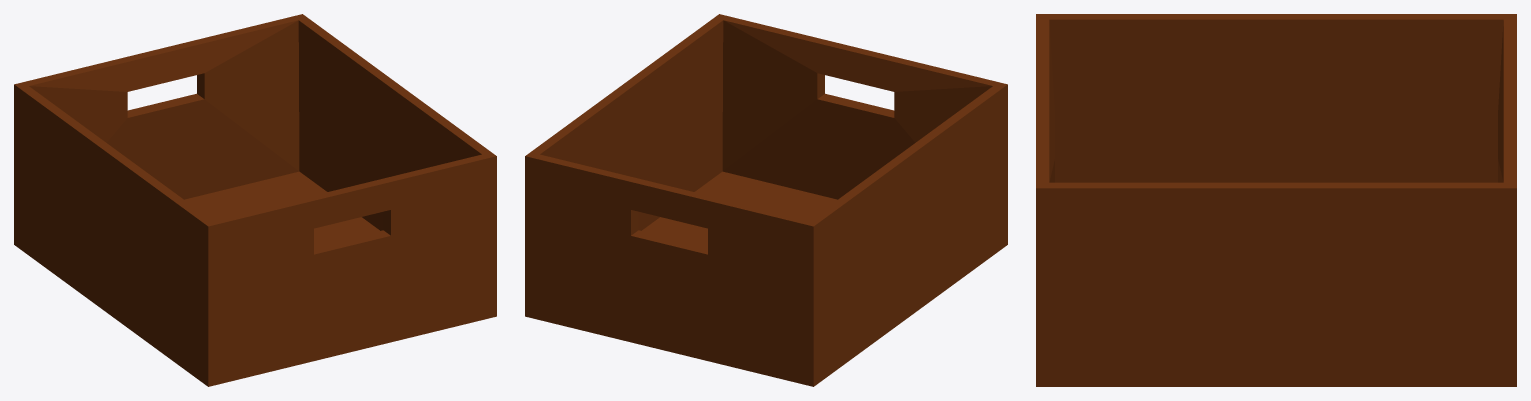
The model's file is Prop_CardboardBox.FBX.
The picture shows the model from 3 angles, left to right: view 1: azimuth 30°, elevation 25°; view 2: azimuth 150°, elevation 25°; view 3: azimuth 270°, elevation 25°; orthographic projection. The views are drawn at different scales.
Visible parts, largest first — view 1: Prop_CardboardBox_001; view 2: Prop_CardboardBox_001; view 3: Prop_CardboardBox_001.
Boxes of the visible parts, <box> form: Prop_CardboardBox_001: <box>14,14,496,386</box>; Prop_CardboardBox_001: <box>525,14,1007,386</box>; Prop_CardboardBox_001: <box>1036,14,1516,386</box>.
Bounding box in the file's own units: 0.4363 × 0.2318 × 0.5086.
